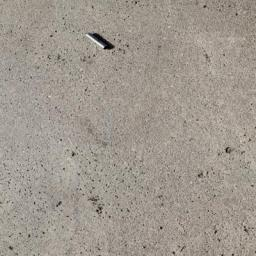FOD: (84, 29, 117, 52)
